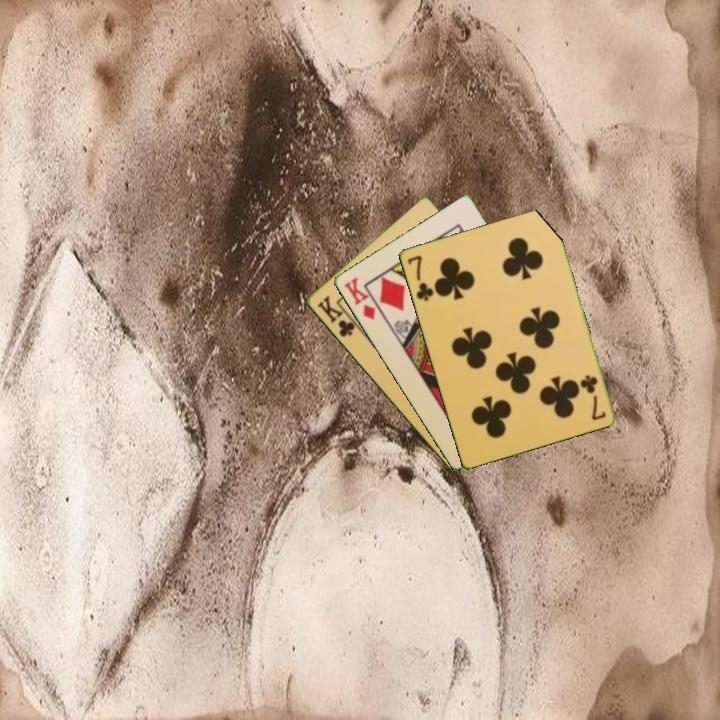7c: (403, 252, 436, 304), (577, 371, 608, 423)
Kc: (313, 292, 362, 340)
Kd: (340, 273, 378, 323)
